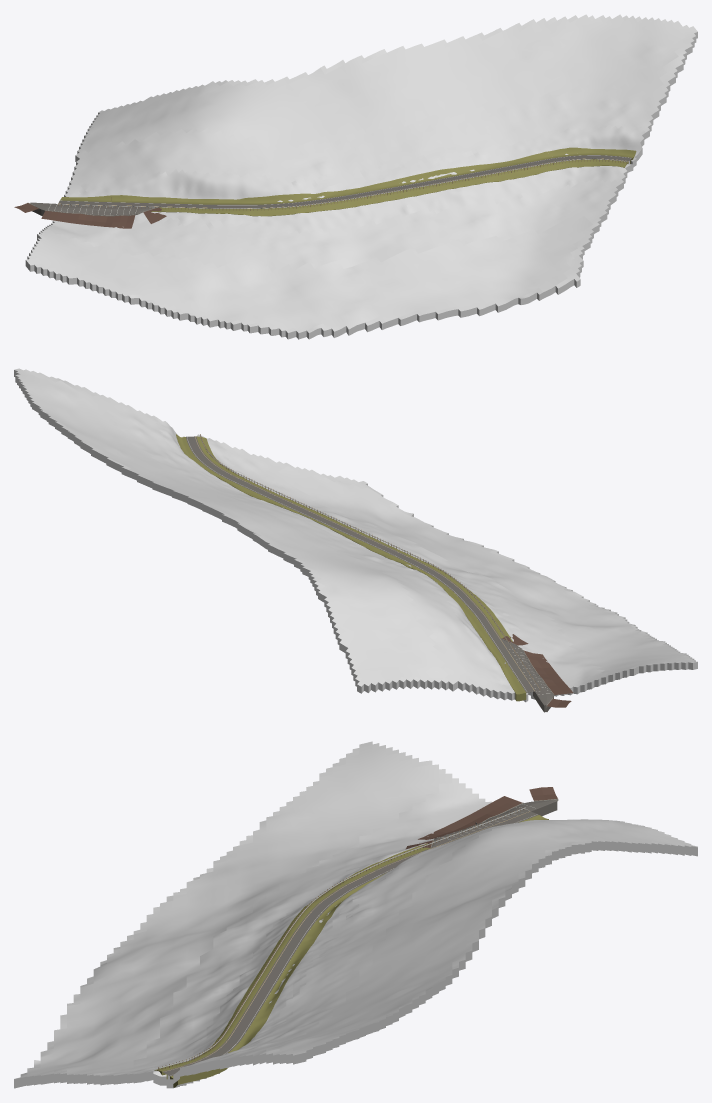
The model's file is conz_16.glb.
3 views of the same model, one above another, from view 1: azimuth 30°, elevation 25°; view 2: azimuth 150°, elevation 25°; view 3: azimuth 270°, elevation 25° (orthographic). The views are drawn at different scales.
Visible parts, largest first — view 1: terrain16, verge16R, verge16L, road16, apron16_11, lot16_11, beam16_11040, posts16_11040; view 2: terrain16, road16, verge16R, verge16L, apron16_11, lot16_11; view 3: terrain16, road16, verge16L, verge16R, apron16_11, lot16_11, posts16_11040, beam16_11040.
Part boxes in pixels (<box>): terrain16: <box>25,14,697,339</box>; verge16R: <box>60,147,636,204</box>; verge16L: <box>151,159,628,216</box>; road16: <box>58,155,631,208</box>; apron16_11: <box>14,203,166,228</box>; lot16_11: <box>30,202,156,215</box>; beam16_11040: <box>57,158,626,208</box>; posts16_11040: <box>58,159,627,210</box>; terrain16: <box>14,368,697,702</box>; road16: <box>186,436,535,692</box>; verge16R: <box>176,434,526,701</box>; verge16L: <box>196,436,512,641</box>; apron16_11: <box>502,634,573,707</box>; lot16_11: <box>501,639,553,712</box>; terrain16: <box>14,741,697,1088</box>; road16: <box>162,811,538,1076</box>; verge16L: <box>154,843,430,1079</box>; verge16R: <box>170,815,548,1087</box>; apron16_11: <box>405,787,557,849</box>; lot16_11: <box>431,800,557,847</box>; posts16_11040: <box>158,807,524,1071</box>; beam16_11040: <box>159,807,525,1068</box>.
Bounding box in the file's own units: 316 × 73.16 × 206.
